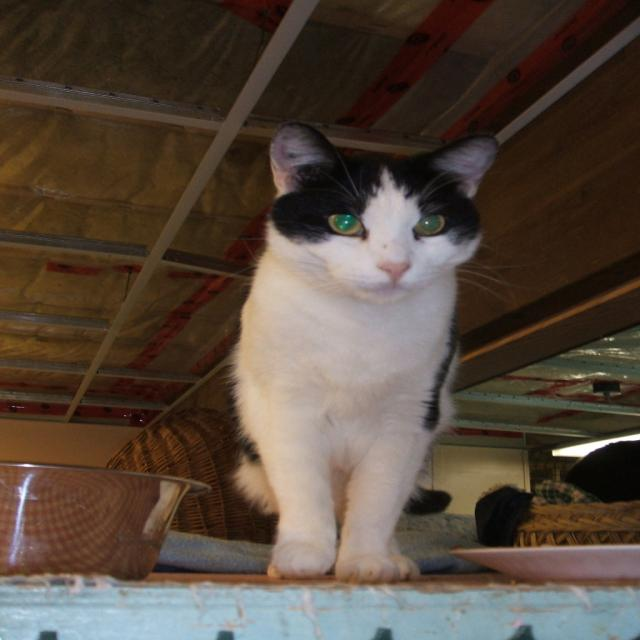Cat: (225, 119, 511, 578)
